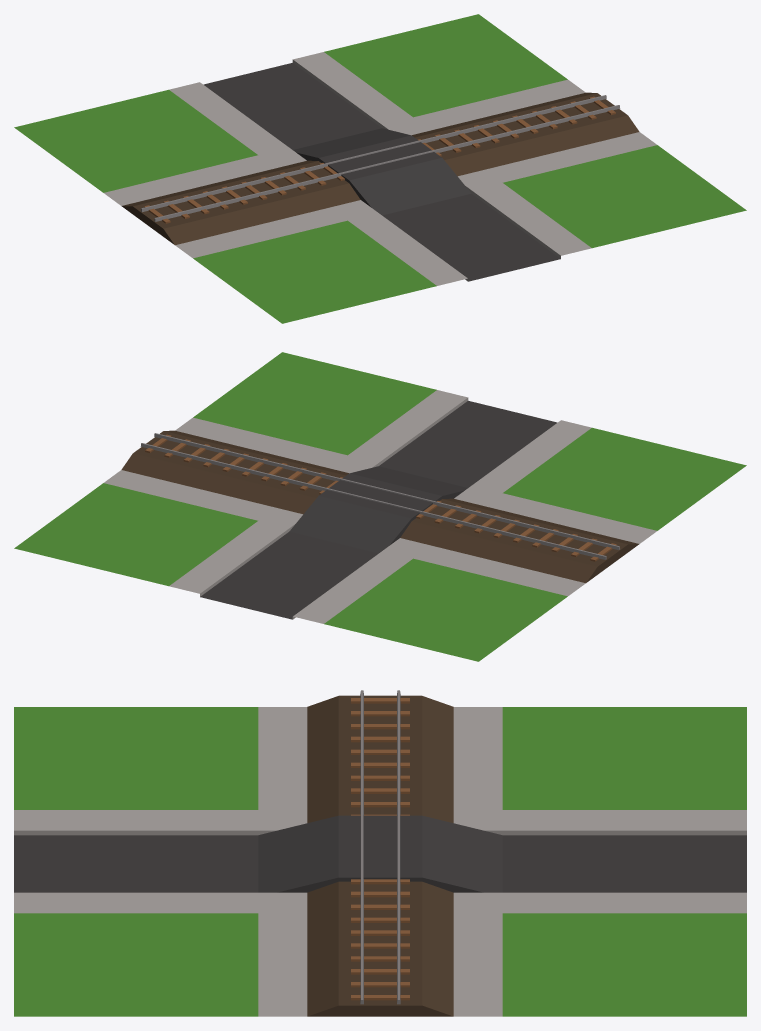
File: tiles-nb_tile-rail-road-crossing-nb.fbx
The picture shows the model from 3 angles, top to bottom: view 1: azimuth 30°, elevation 25°; view 2: azimuth 150°, elevation 25°; view 3: azimuth 270°, elevation 25°; orthographic projection. The views are drawn at different scales.
Visible parts, largest first — view 1: tiles_nb_tile_rail_road_crossing_nb; view 2: tiles_nb_tile_rail_road_crossing_nb; view 3: tiles_nb_tile_rail_road_crossing_nb.
Boxes of the visible parts, x1,y1,x2,y2 form: tiles_nb_tile_rail_road_crossing_nb: [14, 14, 746, 323]; tiles_nb_tile_rail_road_crossing_nb: [14, 352, 746, 661]; tiles_nb_tile_rail_road_crossing_nb: [14, 690, 746, 1016].
Bounding box in the file's own units: 200 × 6.31 × 200.
